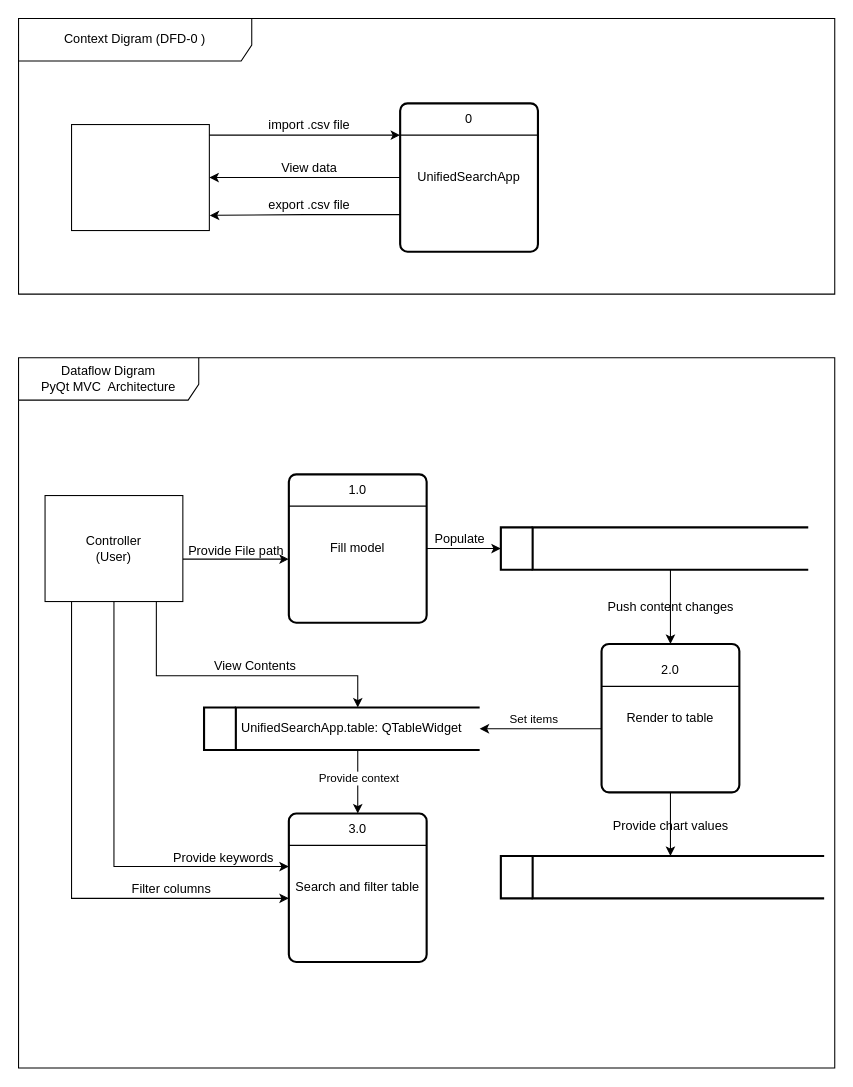
The diagram is 853 pixels wide and 1087 high, and some of its shapes have lost their labels. Each missing label, with the centre of its shape:
"UnifiedSearchApp.chart_canvas: FigureCanvas" goes at pixel 678 876.
"UnifiedSearchApp.model: QAbstractModelView" goes at pixel 670 548.
"User" goes at pixel 139 177.
